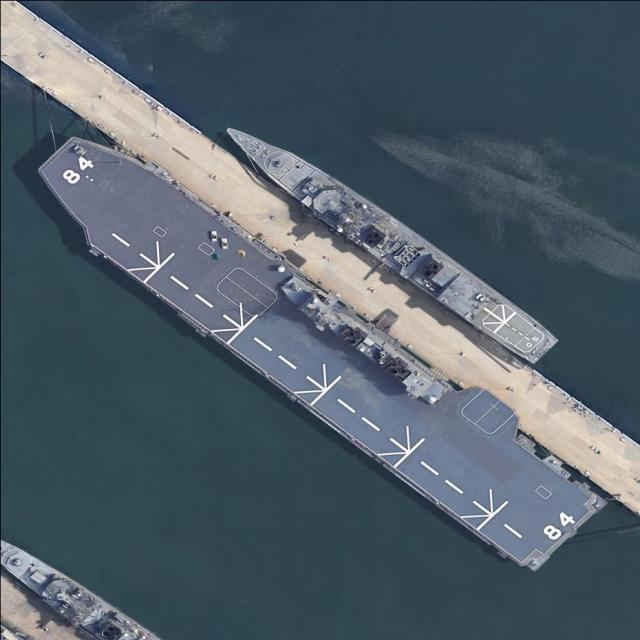Destroyer: (19, 107, 614, 586), (217, 109, 561, 372)
